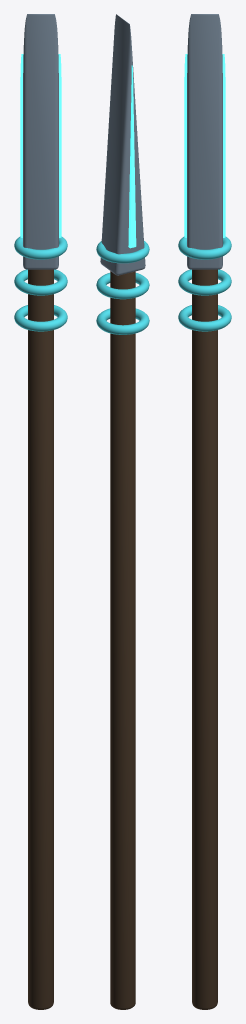
File: spear_v5.glb
The picture shows the model from 3 angles, left to right: view 1: azimuth 90°, elevation 25°; view 2: azimuth 210°, elevation 25°; view 3: azimuth 270°, elevation 25°; orthographic projection.
Visible parts, largest first — view 1: SPEAR_SHAFT_SECONDARY, PIKE_HEAD_PRIMARY, PIKE_RUNE_EMISSIVE, PIKE_COLLAR_ACCENT.001, PIKE_COLLAR_ACCENT, PIKE_COLLAR_ACCENT.002; view 2: SPEAR_SHAFT_SECONDARY, PIKE_HEAD_PRIMARY, PIKE_RUNE_EMISSIVE, PIKE_COLLAR_ACCENT.001, PIKE_COLLAR_ACCENT, PIKE_COLLAR_ACCENT.002; view 3: SPEAR_SHAFT_SECONDARY, PIKE_HEAD_PRIMARY, PIKE_RUNE_EMISSIVE, PIKE_COLLAR_ACCENT.001, PIKE_COLLAR_ACCENT, PIKE_COLLAR_ACCENT.002.
Part boxes in pixels (bbox=[...]): SPEAR_SHAFT_SECONDARY: bbox=[28, 269, 53, 1009]; PIKE_HEAD_PRIMARY: bbox=[23, 14, 58, 269]; PIKE_RUNE_EMISSIVE: bbox=[20, 54, 61, 237]; PIKE_COLLAR_ACCENT.001: bbox=[14, 269, 67, 295]; PIKE_COLLAR_ACCENT: bbox=[14, 305, 67, 331]; PIKE_COLLAR_ACCENT.002: bbox=[14, 236, 67, 259]; SPEAR_SHAFT_SECONDARY: bbox=[110, 271, 135, 1009]; PIKE_HEAD_PRIMARY: bbox=[100, 14, 145, 275]; PIKE_RUNE_EMISSIVE: bbox=[128, 65, 136, 248]; PIKE_COLLAR_ACCENT.001: bbox=[96, 273, 149, 299]; PIKE_COLLAR_ACCENT: bbox=[96, 308, 149, 334]; PIKE_COLLAR_ACCENT.002: bbox=[96, 241, 149, 263]; SPEAR_SHAFT_SECONDARY: bbox=[192, 269, 217, 1009]; PIKE_HEAD_PRIMARY: bbox=[187, 14, 222, 269]; PIKE_RUNE_EMISSIVE: bbox=[184, 54, 225, 237]; PIKE_COLLAR_ACCENT.001: bbox=[178, 269, 231, 295]; PIKE_COLLAR_ACCENT: bbox=[178, 305, 231, 331]; PIKE_COLLAR_ACCENT.002: bbox=[178, 236, 231, 259].
Size of the model in its own units: 0.27 by 5.52 by 0.27.
